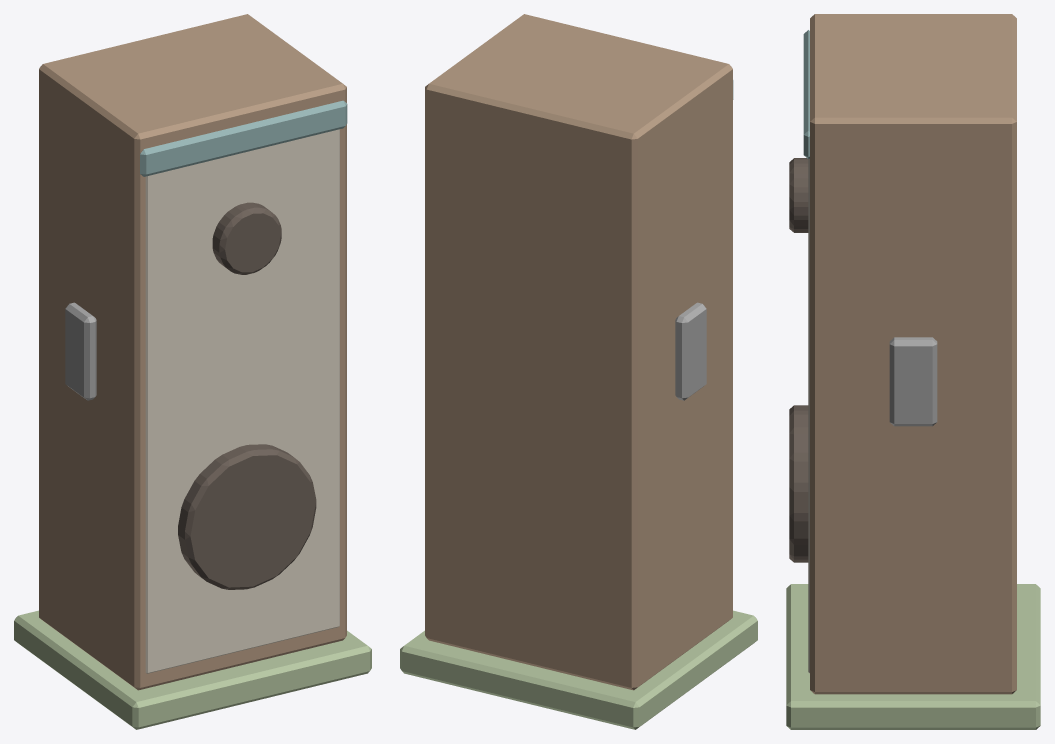
The model's file is colonka.glb.
3 renders of one model, left to right at view 1: azimuth 30°, elevation 25°; view 2: azimuth 150°, elevation 25°; view 3: azimuth 270°, elevation 25°, orthographic. The views are drawn at different scales.
Parts seen in each view (by area): view 1: Pastel_Floor_Speaker; view 2: Pastel_Floor_Speaker; view 3: Pastel_Floor_Speaker.
Boxes of the visible parts, <box> form: Pastel_Floor_Speaker: <box>14,14,371,729</box>; Pastel_Floor_Speaker: <box>400,14,757,729</box>; Pastel_Floor_Speaker: <box>786,14,1040,729</box>.
Size of the model in its own units: 0.9 by 2.1 by 0.8.
